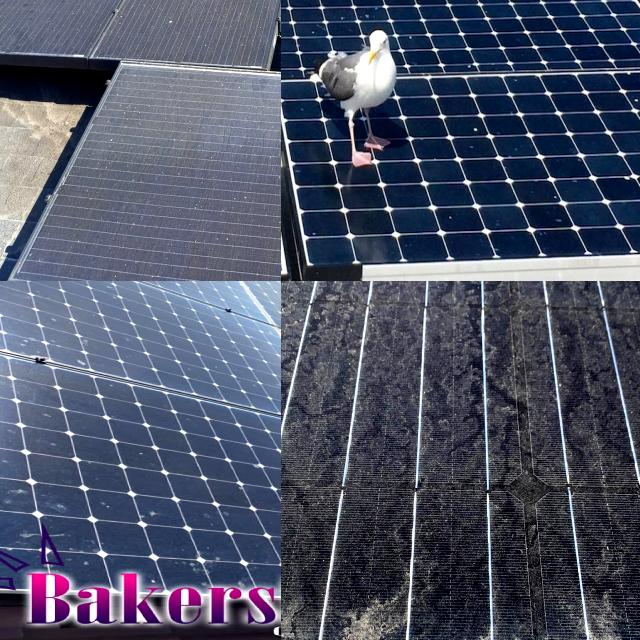bird: (281, 129, 310, 199), (281, 0, 313, 33), (281, 0, 325, 23), (391, 0, 434, 23), (281, 0, 300, 34), (290, 0, 322, 14)
dust: (448, 281, 640, 525), (281, 281, 413, 532), (126, 72, 281, 281), (370, 580, 590, 640), (154, 0, 281, 56), (41, 0, 131, 58), (238, 294, 281, 373)
